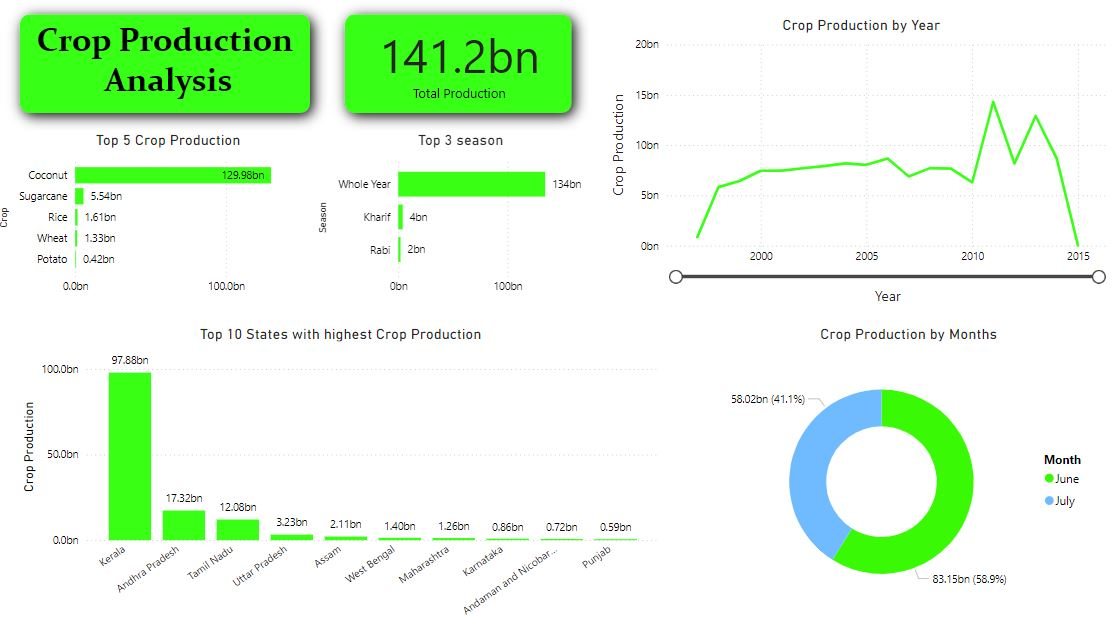

The dashboard page shown, as its layout file describes it:
{"tool":"powerbi","page":{"name":"Dashboard","canvas":[1280,720],"ordinal":0},"visuals":[{"type":"shape","box":[380,0,298.8,152.5],"z":0},{"type":"card","fields":{"Values":["Sum(Crop Production data.Production)"]},"box":[396.2,20,270,111.2],"z":1000},{"type":"shape","box":[8.8,0,371.2,152.5],"z":2000},{"type":"textbox","box":[0,21.1,396.2,120],"z":3000},{"type":"stackedAreaChart","title":"Crop Production by Year","fields":{"Category":["Crop Production data.Crop_Year"],"Y":["Sum(Crop Production data.Production)"]},"box":[700,21.4,580,330],"z":4000},{"type":"donutChart","title":"Crop Production by Months","fields":{"Category":["Crop Production data.Month"],"Y":["Sum(Crop Production data.Production)"]},"box":[822.9,374.3,442.9,334.3],"z":5000},{"type":"barChart","title":"Top 5 Crop Production","fields":{"Category":["Crop Production data.Crop"],"Y":["Sum(Crop Production data.Production)"]},"box":[0,152.9,395.7,195.7],"z":6000},{"type":"clusteredColumnChart","title":"Top 10 States with highest Crop Production","fields":{"Category":["Crop Production data.State_Name"],"Y":["Sum(Crop Production data.Production)"]},"box":[25.7,374.3,738.6,345.7],"z":7000},{"type":"barChart","title":"Top 3 season ","fields":{"Category":["Crop Production data.Season"],"Y":["Sum(Crop Production data.Production)"]},"box":[364.3,152.9,335.7,195.7],"z":8000}]}

Visuals, with their boxes in screenshot pixels (x1, y1, x2, y2), scaled from the page's 1280x720 canvas onto the 1113x619 screenshot:
shape: pyautogui.locateOnScreen(330, 0, 590, 131)
card - Sum(Crop Production data.Production): pyautogui.locateOnScreen(345, 17, 579, 113)
shape: pyautogui.locateOnScreen(8, 0, 330, 131)
textbox: pyautogui.locateOnScreen(0, 18, 345, 121)
"Crop Production by Year" stackedAreaChart: pyautogui.locateOnScreen(609, 18, 1112, 302)
"Crop Production by Months" donutChart: pyautogui.locateOnScreen(716, 322, 1101, 609)
"Top 5 Crop Production" barChart: pyautogui.locateOnScreen(0, 131, 344, 300)
"Top 10 States with highest Crop Production" clusteredColumnChart: pyautogui.locateOnScreen(22, 322, 665, 618)
"Top 3 season " barChart: pyautogui.locateOnScreen(317, 131, 609, 300)
